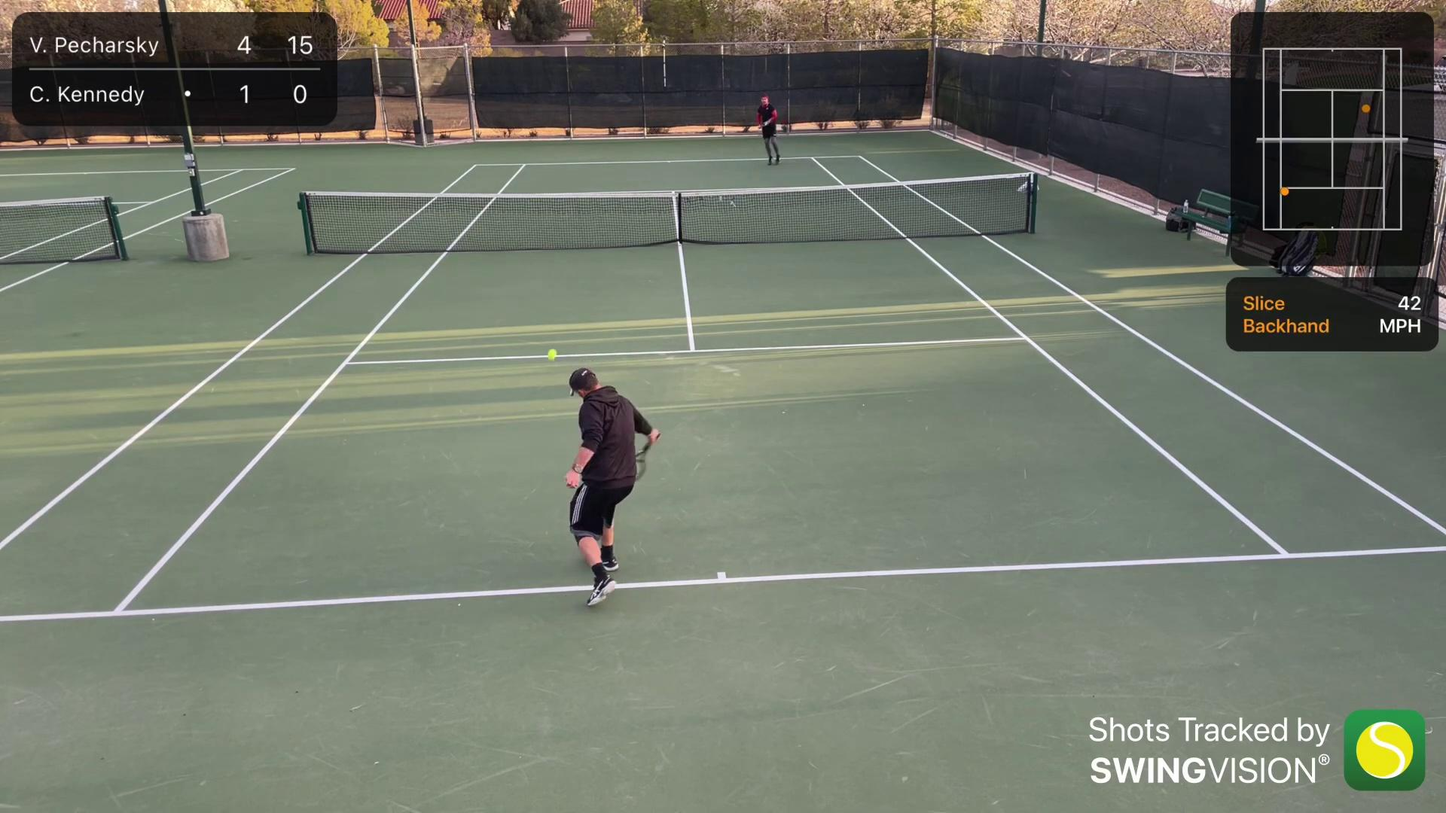ball: (546, 345, 558, 363)
